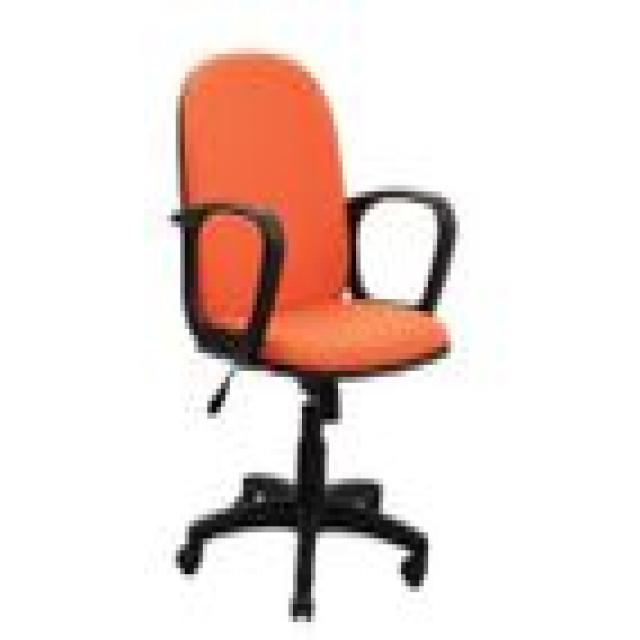others: (153, 42, 478, 640)
